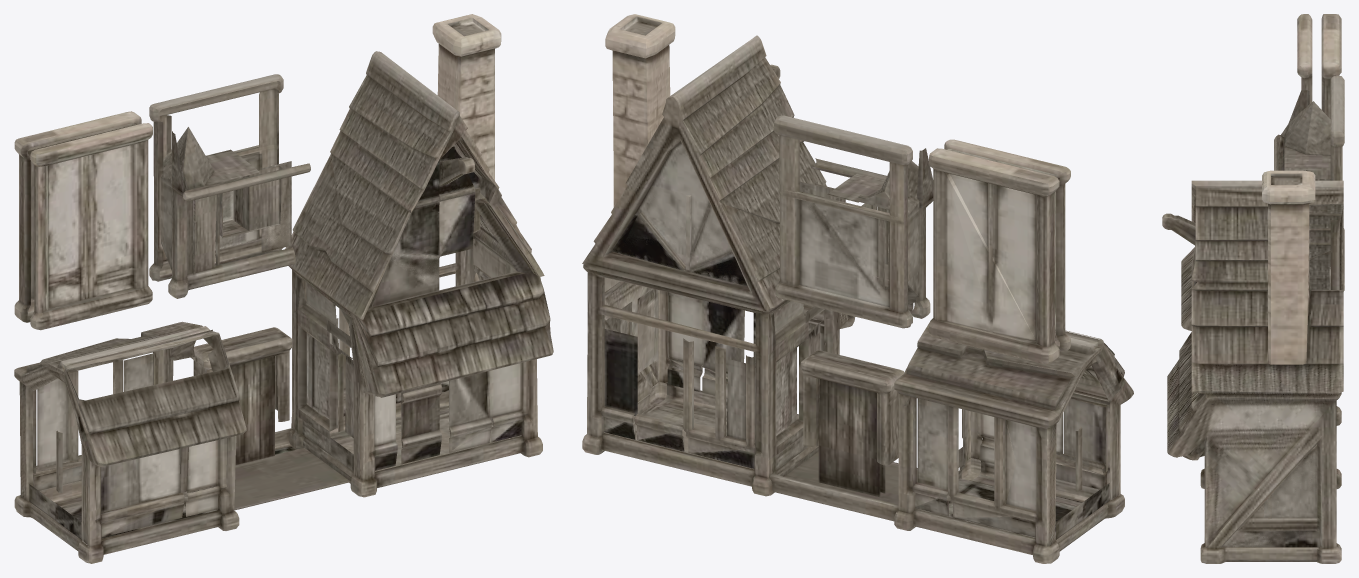
Rendered from village_weathered.glb.
The picture shows the model from 3 angles, left to right: view 1: azimuth 30°, elevation 25°; view 2: azimuth 150°, elevation 25°; view 3: azimuth 270°, elevation 25°; orthographic projection. The views are drawn at different scales.
Bounding box in the file's own units: 1.9 × 1.6 × 0.7084.
Materials: 1 (1 with a texture image).
